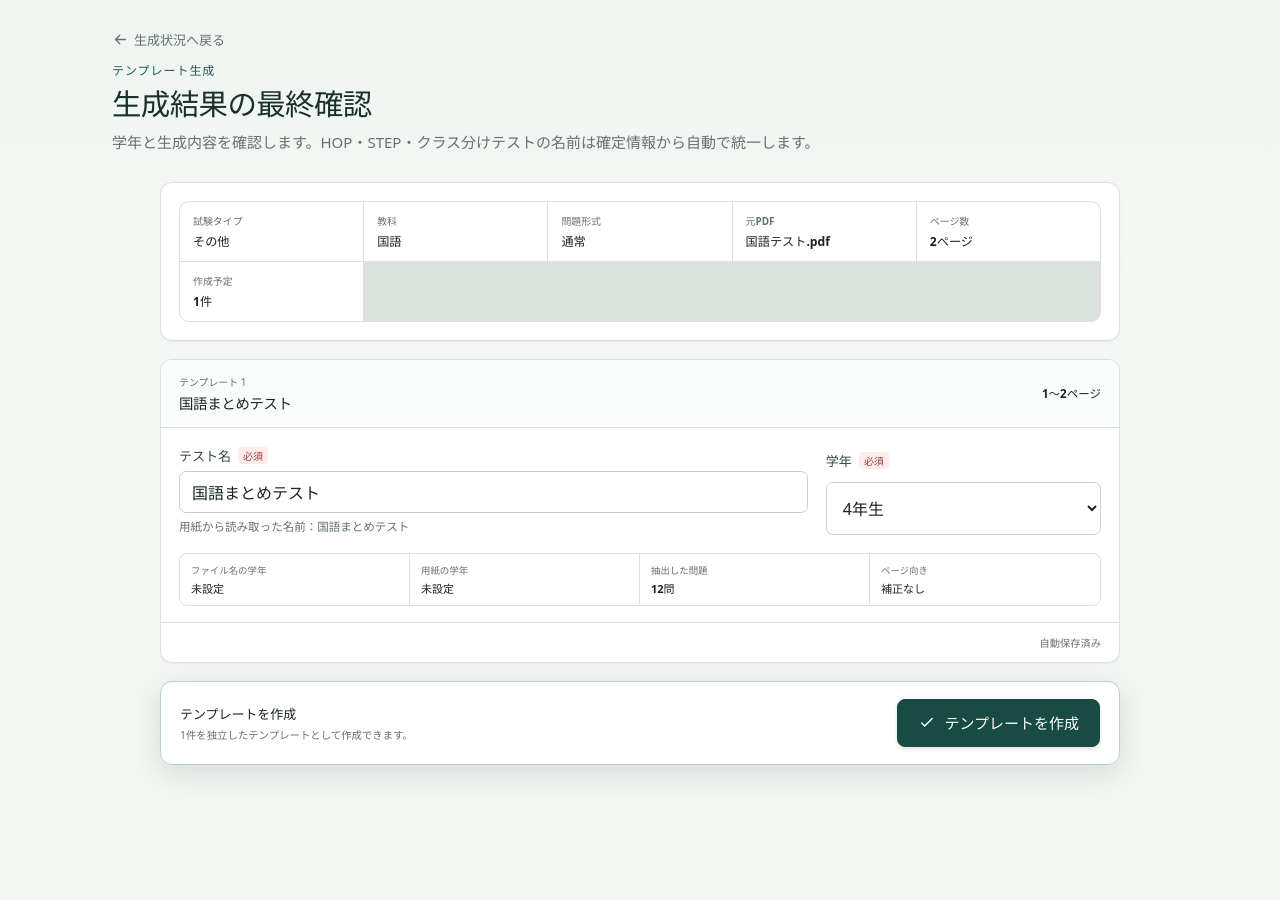
Scenario: TemplateGenerationFinalCheckPage › keeps a newer unit edit dirty and resaves it after an in-flight save
This screenshot has width=1280, height=900.
Replace the text in the field labelled "テスト名" with "先に送信した名前" at (493, 492), box [179, 471, 808, 513]
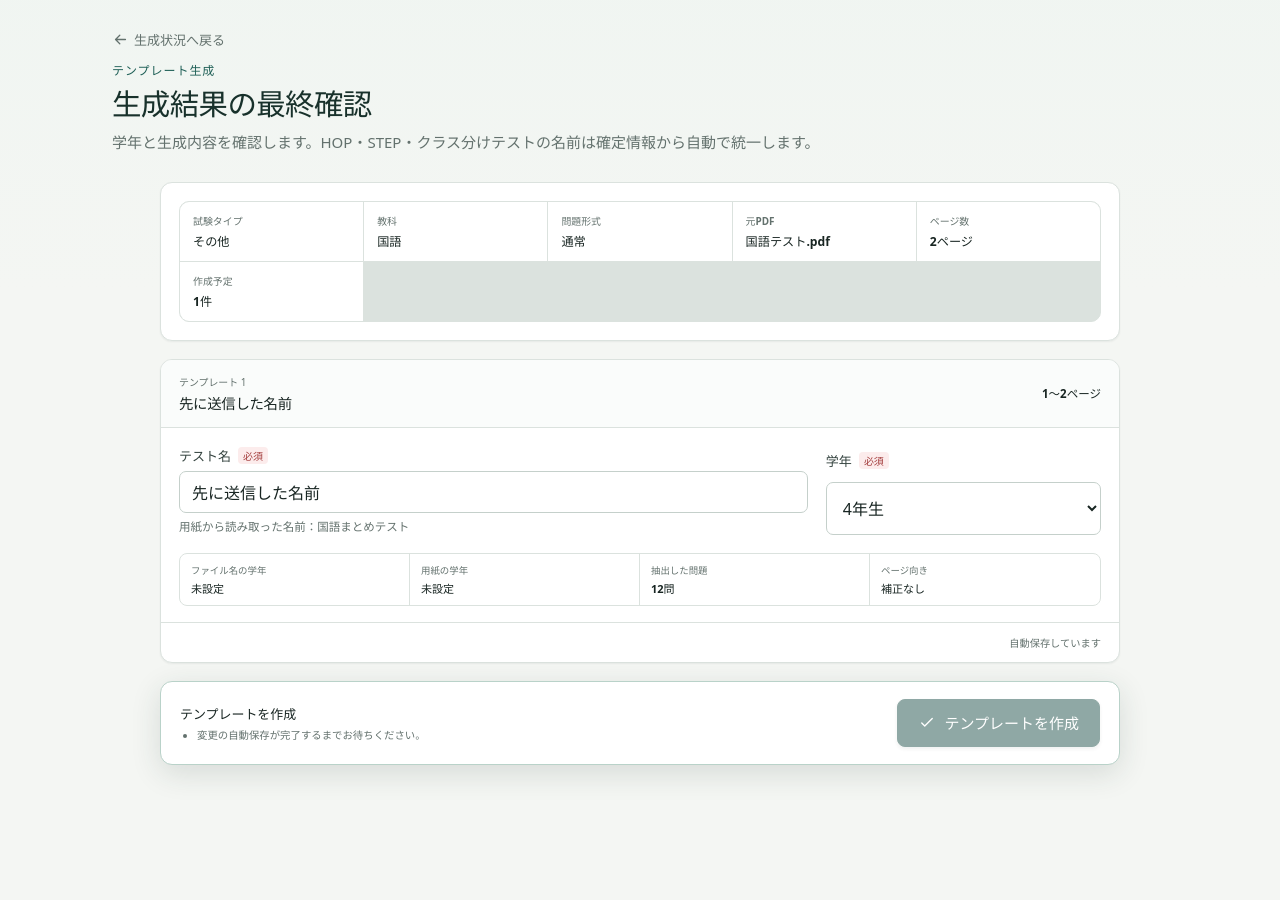
Replace the text in the field labelled "テスト名" with "送信中に入力した最新の名前" at (493, 492), box [179, 471, 808, 513]
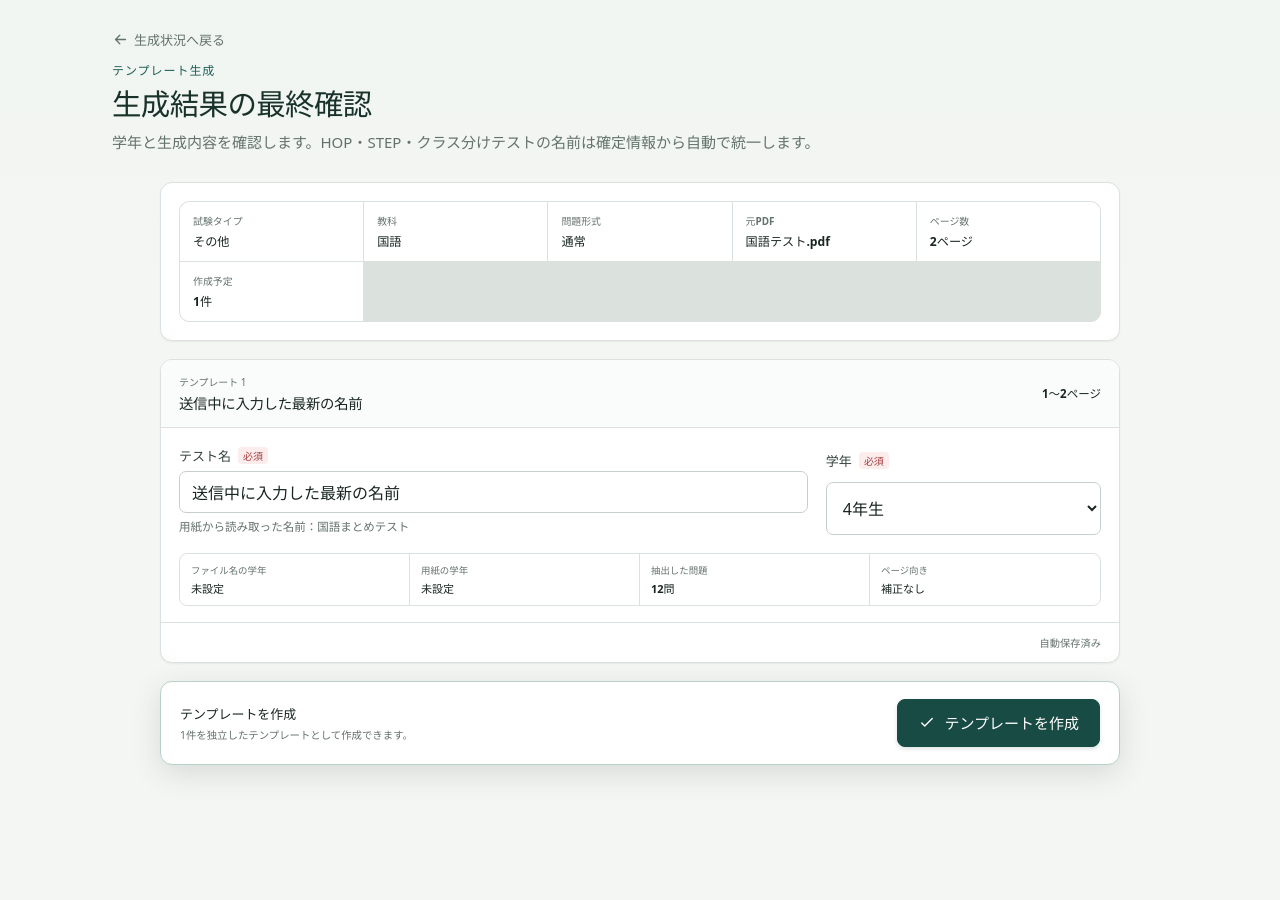
Expected: the text "自動保存済み" is shown, [1040, 636, 1101, 650]
